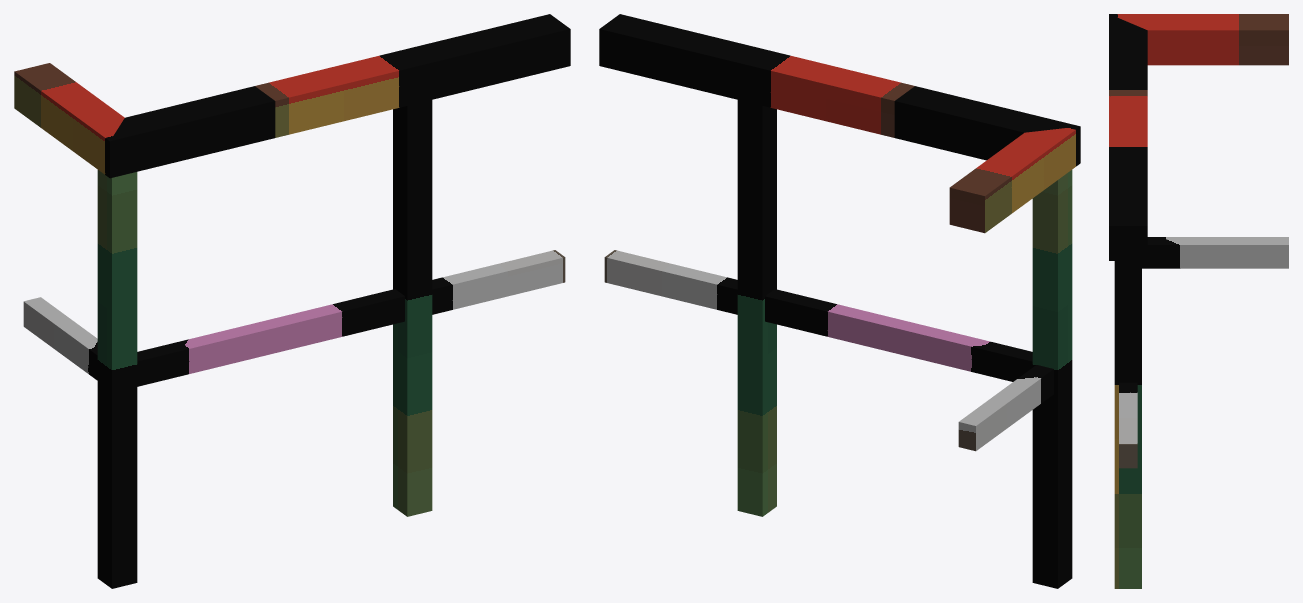
Rendered from Rails.fbx.
3 renders of one model, left to right at view 1: azimuth 30°, elevation 25°; view 2: azimuth 150°, elevation 25°; view 3: azimuth 270°, elevation 25°, orthographic. The views are drawn at different scales.
Visible parts, largest first — view 1: Rail1, RailCorner; view 2: Rail1, RailCorner; view 3: Rail1, RailCorner.
Part boxes in pixels (x1=…): Rail1: x1=255, y1=14, x2=570, y2=516; RailCorner: x1=14, y1=63, x2=275, y2=588; Rail1: x1=599, y1=14, x2=914, y2=516; RailCorner: x1=894, y1=86, x2=1080, y2=588; Rail1: x1=1109, y1=90, x2=1147, y2=588; RailCorner: x1=1109, y1=14, x2=1288, y2=268.
Bounding box in the file's own units: 78 × 73 × 28.
